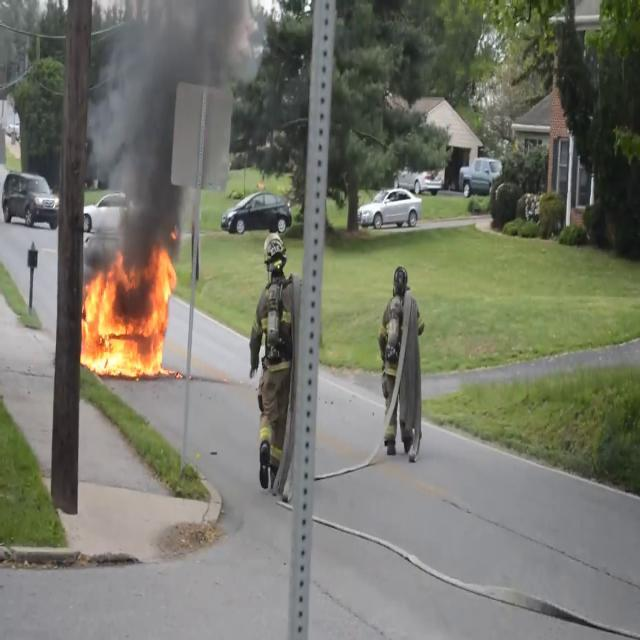Fire: (78, 244, 178, 381)
Smoke: (89, 0, 269, 252)
